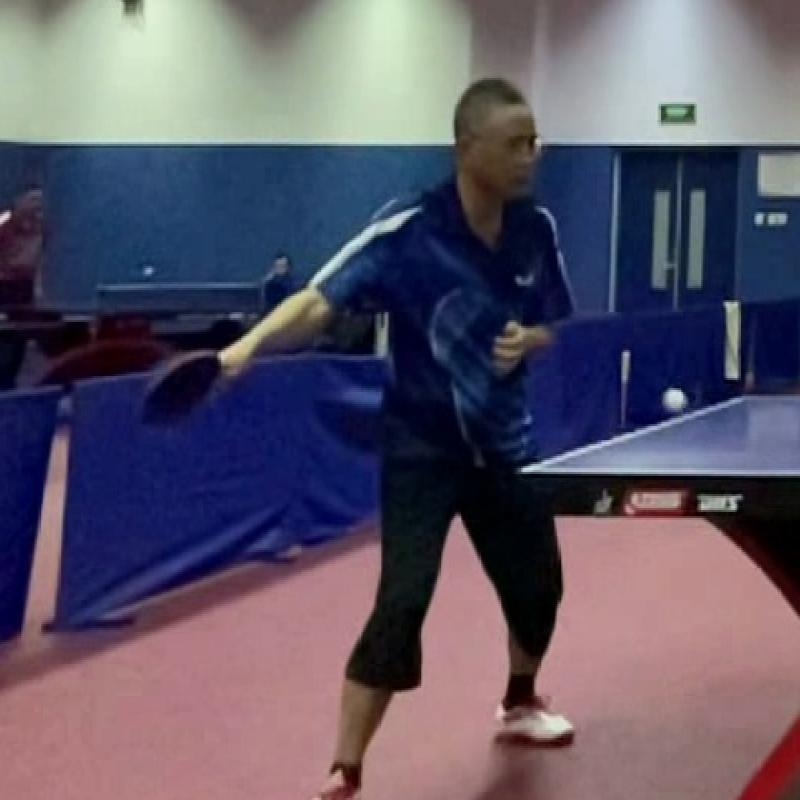bats: (126, 340, 234, 442)
